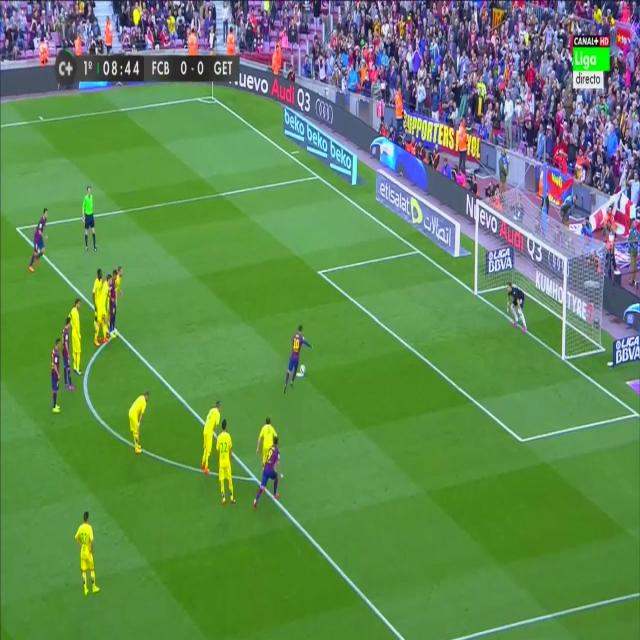Ball: (299, 361, 306, 377)
Goalkeeper: (503, 278, 531, 338)
Player: (74, 510, 101, 599), (282, 322, 313, 394), (254, 434, 283, 510), (216, 419, 238, 509), (27, 204, 52, 275), (199, 398, 221, 478), (128, 388, 150, 459), (60, 315, 77, 395), (255, 415, 280, 466), (68, 296, 82, 377), (50, 337, 62, 416), (91, 266, 102, 348), (101, 272, 113, 344), (108, 264, 118, 340)
Referee: (80, 182, 98, 258)
